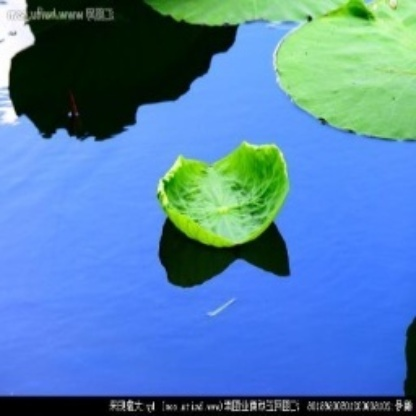leaf: (156, 142, 290, 249)
